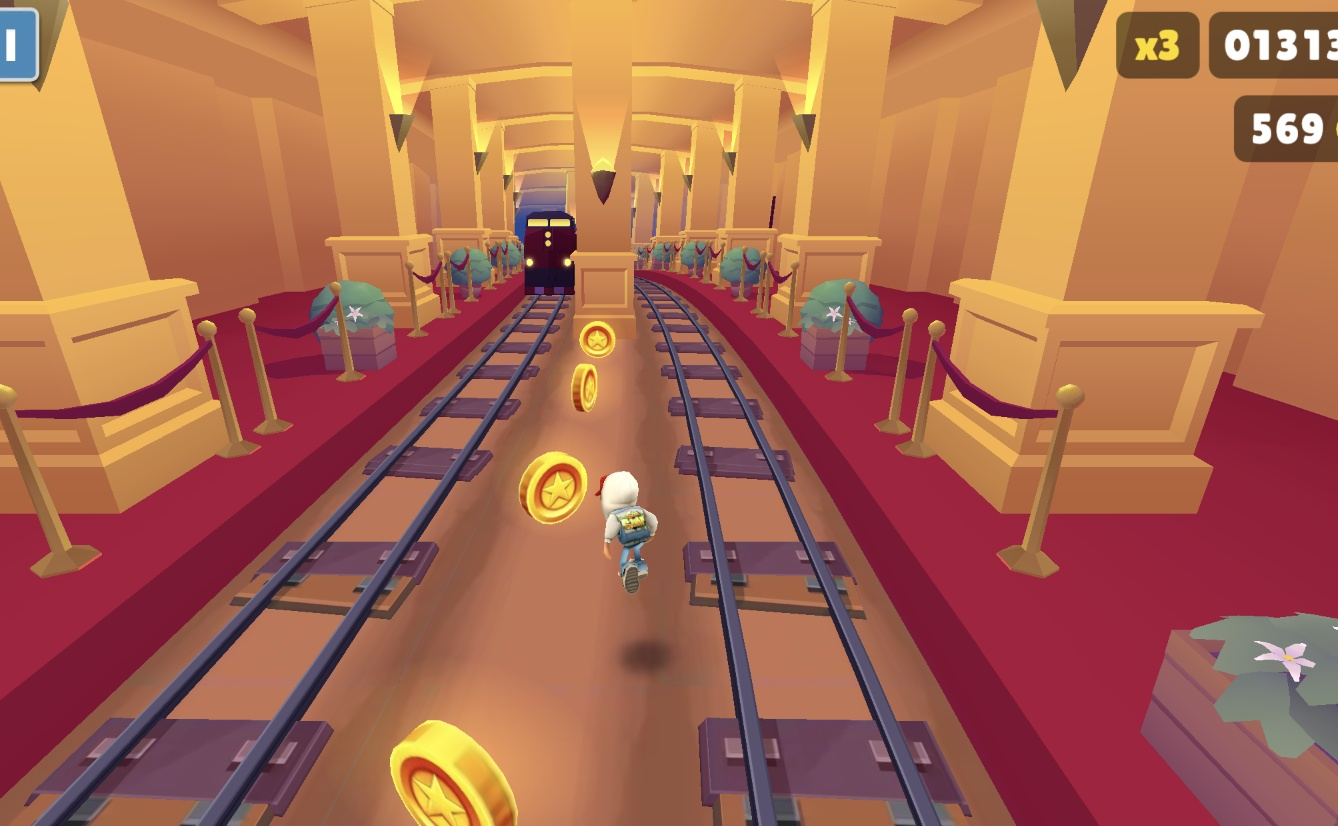pillar: (569, 0, 642, 327)
train: (519, 197, 579, 299)
